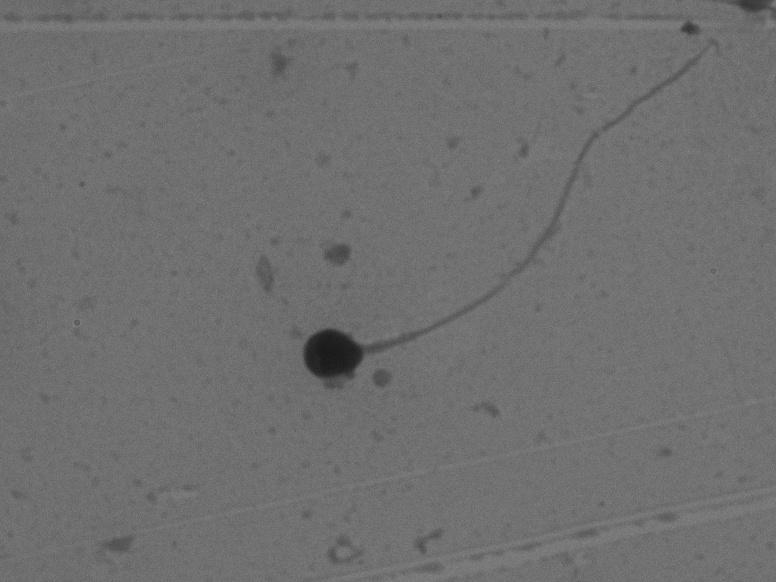Abnormal: (277, 45, 718, 429)
